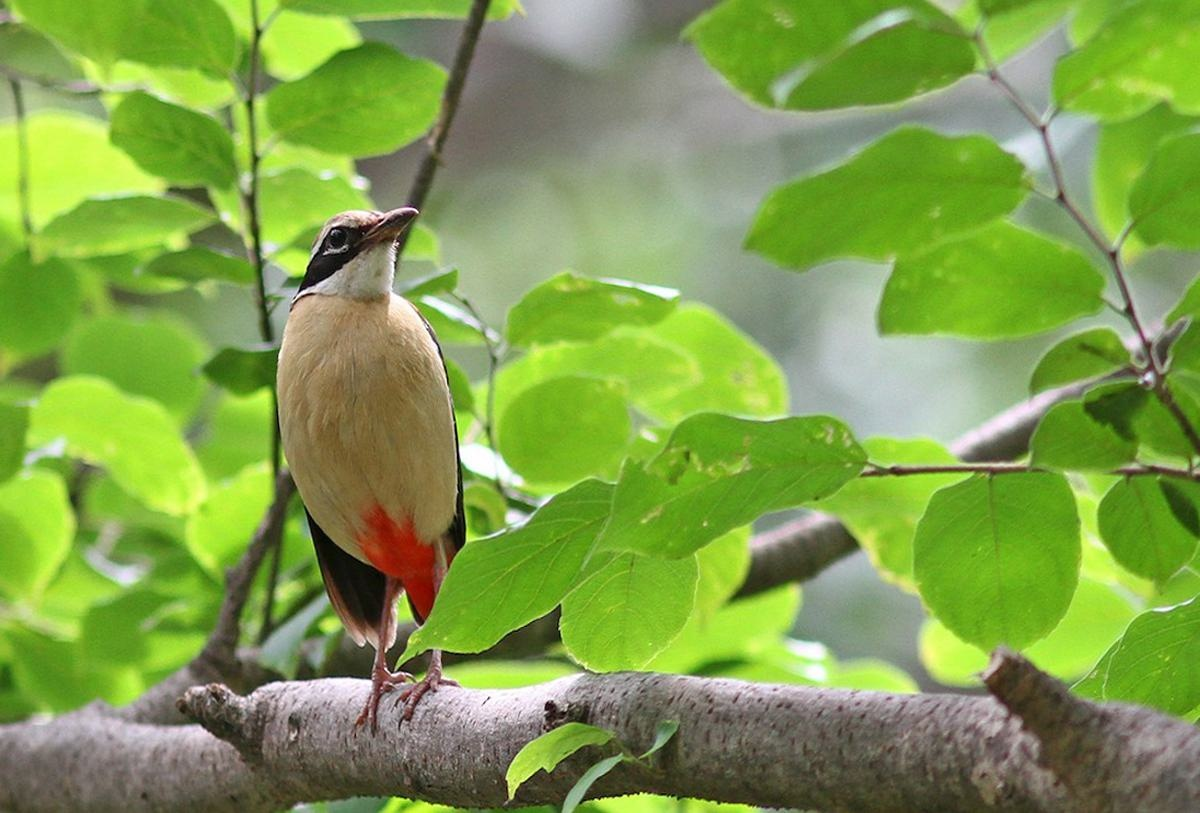pitta: (264, 168, 514, 693)
